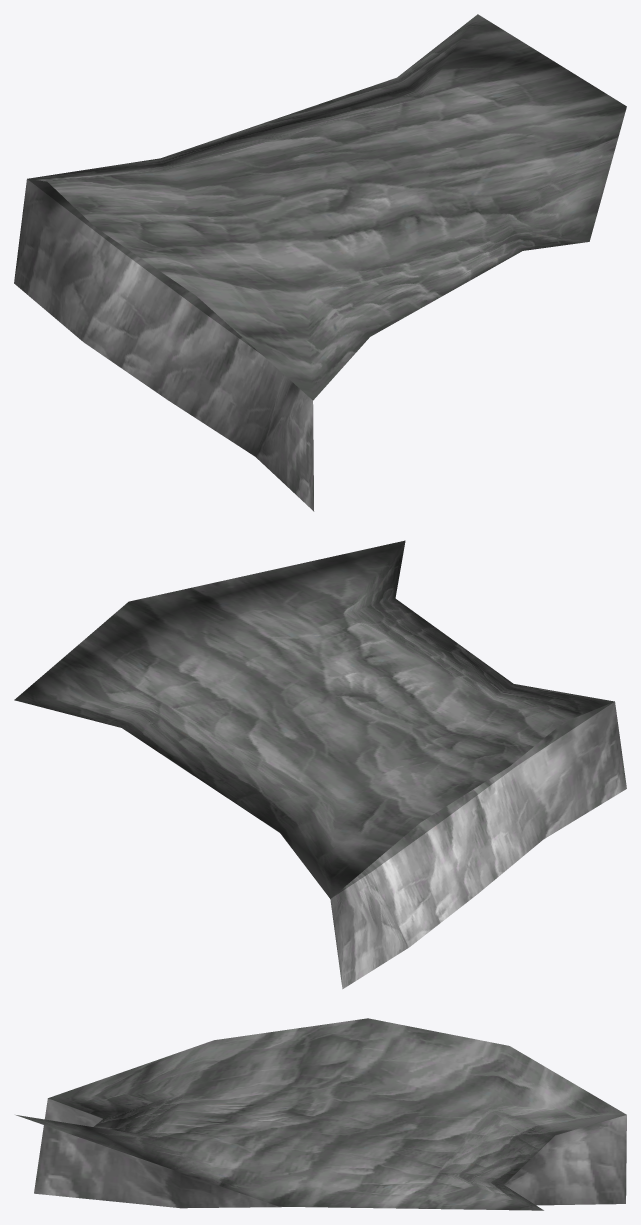
Rendered from SWORDLIGHT20_PS-AREA03_15.fbx.
3 views of the same model, one above another, from view 1: azimuth 30°, elevation 25°; view 2: azimuth 150°, elevation 25°; view 3: azimuth 270°, elevation 25° (orthographic). The views are drawn at different scales.
Parts seen in each view (by area): view 1: SWORDLIGHT20_PS-AREA03_15; view 2: SWORDLIGHT20_PS-AREA03_15; view 3: SWORDLIGHT20_PS-AREA03_15.
Part boxes in pixels (x1,y1,x2,y2): SWORDLIGHT20_PS-AREA03_15: (14, 14, 626, 511); SWORDLIGHT20_PS-AREA03_15: (14, 540, 626, 989); SWORDLIGHT20_PS-AREA03_15: (16, 1018, 626, 1210).
Bounding box in the file's own units: 76784 × 33553 × 89069.
2 materials, 2 textured.
